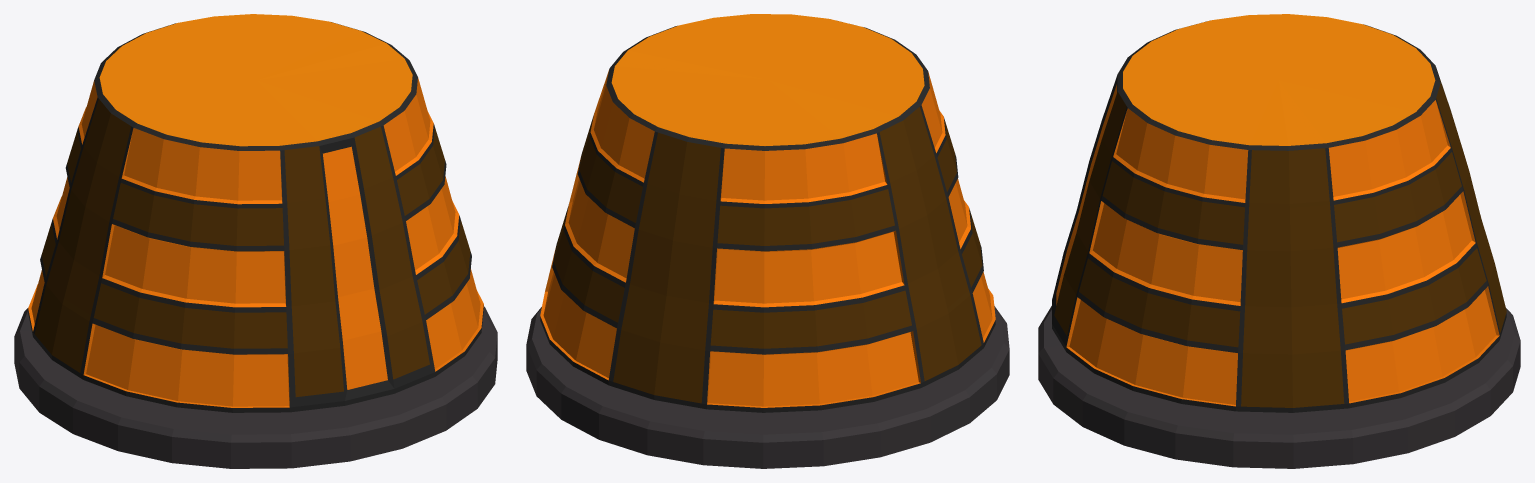
The model's file is Stand.fbx.
3 views of the same model, side by side, from view 1: azimuth 30°, elevation 25°; view 2: azimuth 150°, elevation 25°; view 3: azimuth 270°, elevation 25° (orthographic).
Visible parts, largest first — view 1: Stand, Stand Stand; view 2: Stand, Stand Stand; view 3: Stand, Stand Stand.
Boxes of the visible parts, x1,y1,x2,y2 form: Stand: (28, 14, 483, 412); Stand Stand: (14, 306, 497, 468); Stand: (540, 14, 995, 412); Stand Stand: (526, 306, 1009, 468); Stand: (1052, 14, 1506, 412); Stand Stand: (1038, 306, 1520, 468).
Size of the model in its own units: 211 by 138 by 210.
